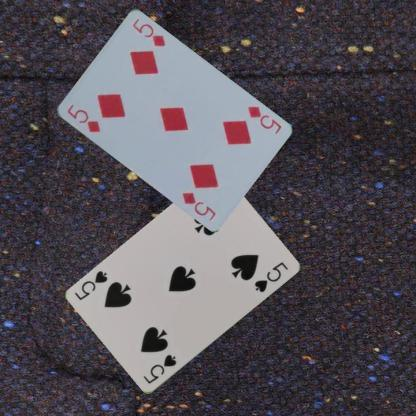5d: (63, 101, 102, 134), (245, 103, 282, 136)
5s: (140, 352, 178, 386)
